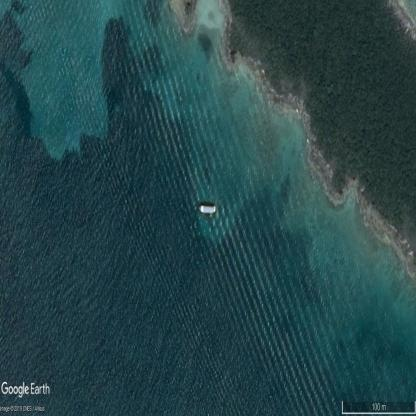ship: (198, 206, 216, 214)
